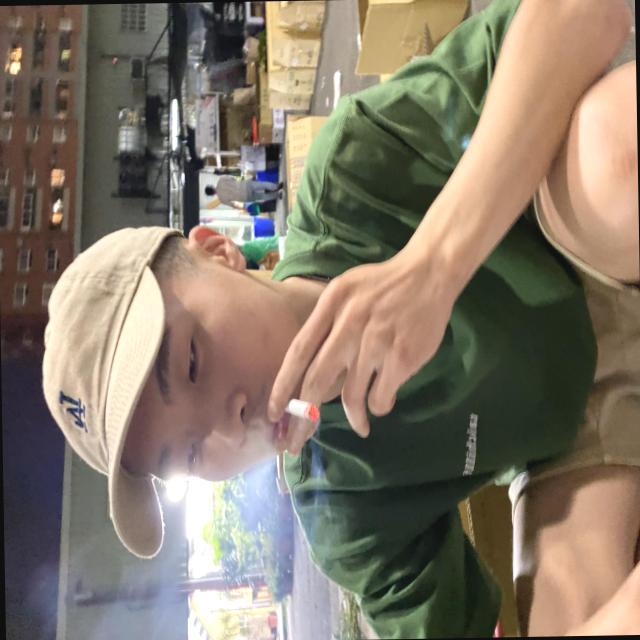smoke: (268, 389, 332, 428)
